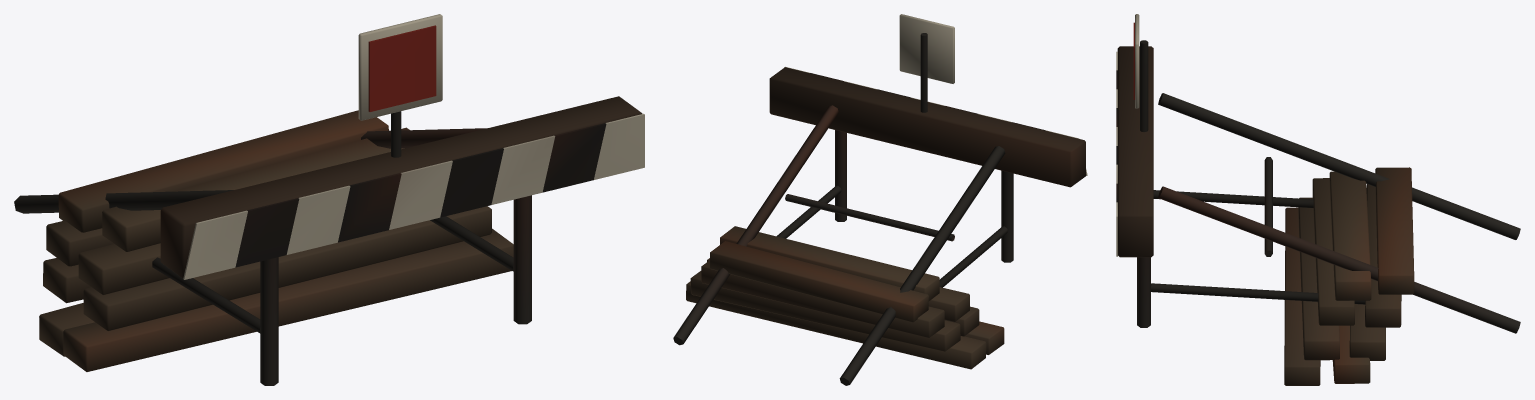
File: tope.glb
3 renders of one model, left to right at view 1: azimuth 30°, elevation 25°; view 2: azimuth 150°, elevation 25°; view 3: azimuth 270°, elevation 25°, orthographic. The views are drawn at different scales.
Parts seen in each view (by area): view 1: tope.001; view 2: tope.001; view 3: tope.001.
Part boxes in pixels (box(x1,y1,x2,y2)): tope.001: box(14, 14, 644, 385); tope.001: box(673, 14, 1087, 385); tope.001: box(1116, 14, 1520, 385).
Size of the model in its own units: 2.9 by 2.24 by 2.92.
